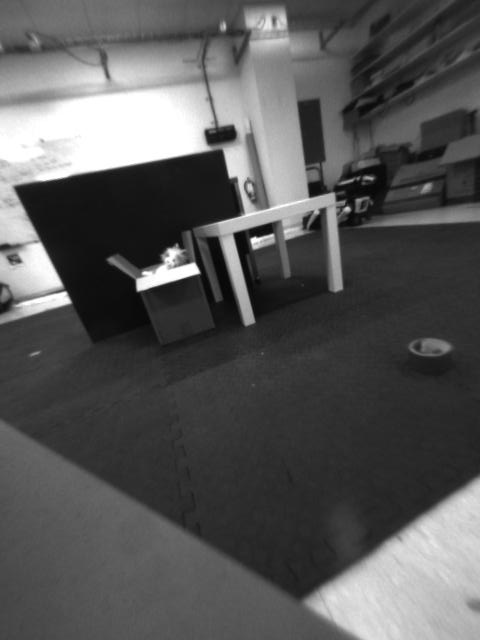dogtoy: (397, 331, 459, 378)
